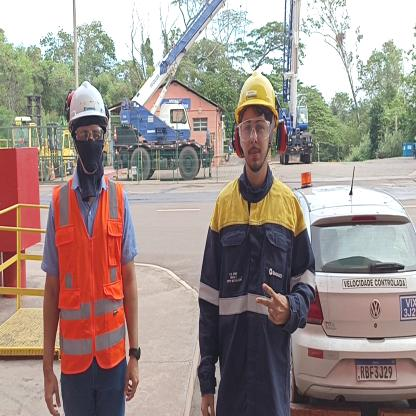Balaclava: (76, 120, 105, 190)
C_eletrica: (206, 180, 307, 416)
Capacete: (232, 66, 278, 112), (66, 80, 108, 117)
colete: (58, 187, 128, 369)
